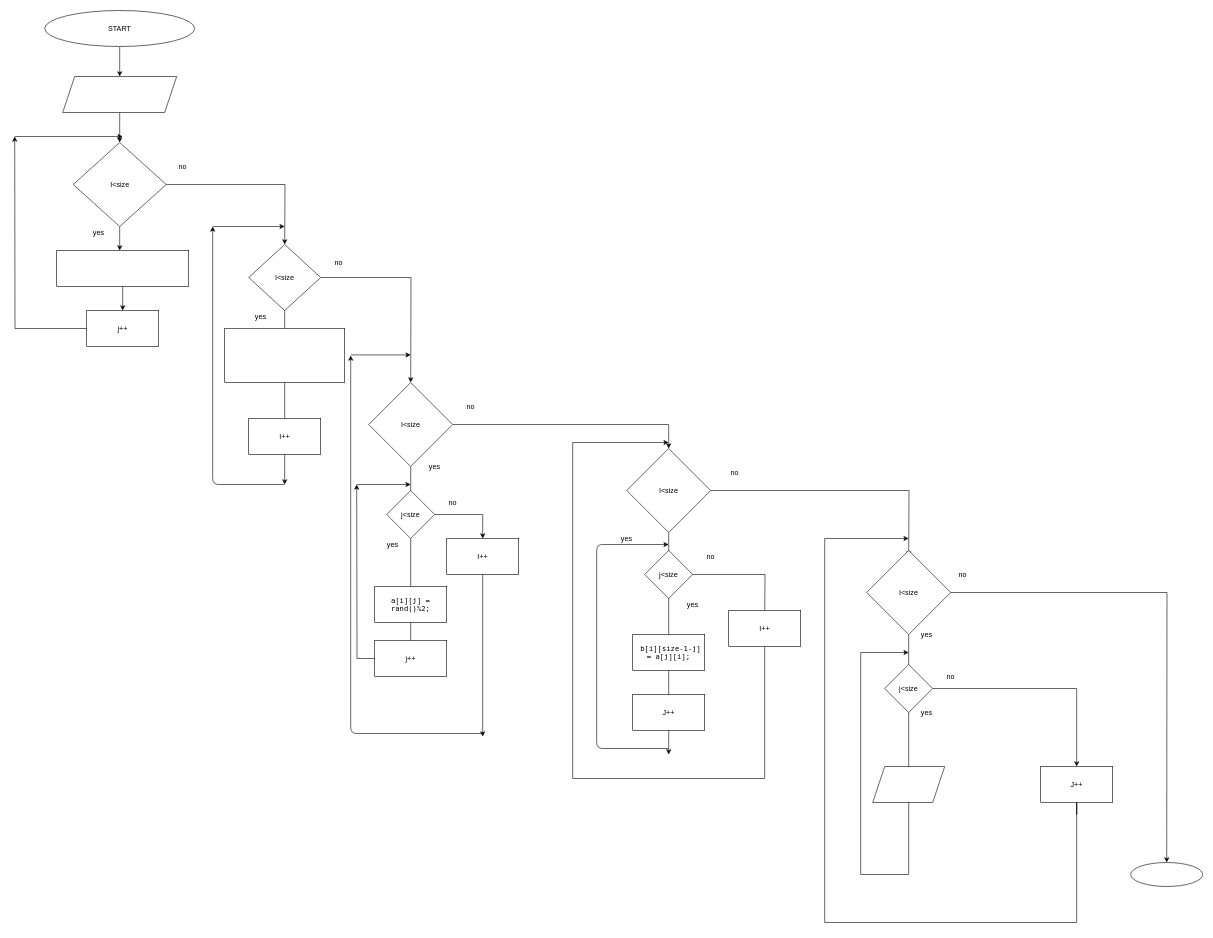
Some shapes in this 1213 by 938 pixel diagram are drawn without their labels. The shapes that lost their labels are listed below. From the top down, each one's centre as x and y in pixels, then its label:
At (119,94): "cin>>size;".
At (122,268): "a[i]= new int [size]".
At (284,355): "[i]= new int [size];".
At (908,784): "cout <<b[i][j]".
At (1166,874): "FINISH".
